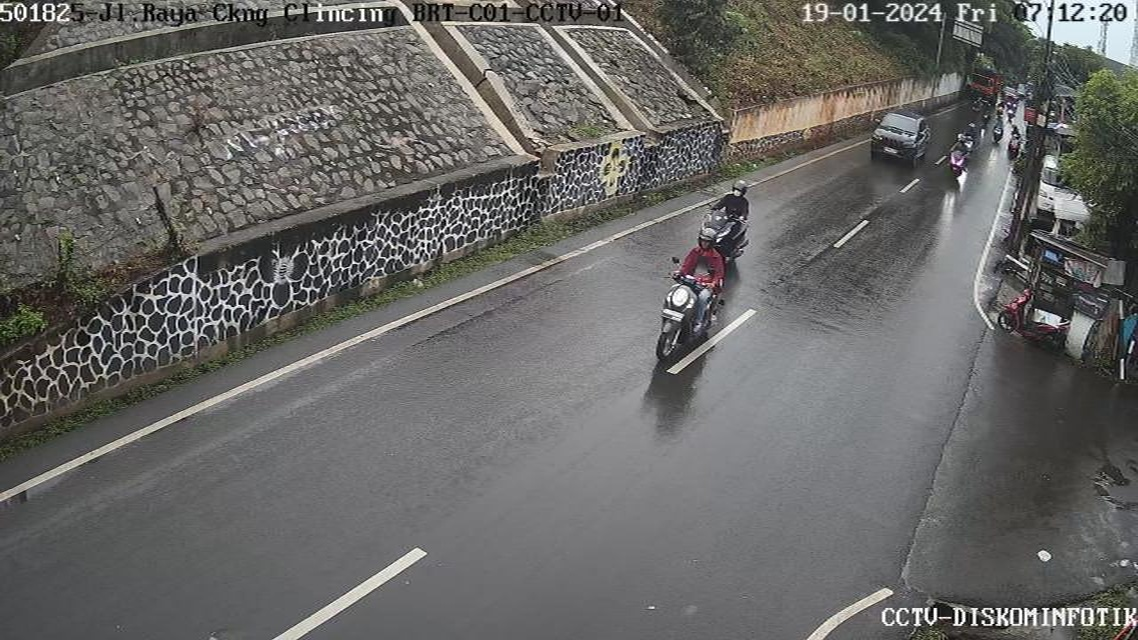Gerobak: (992, 256, 1084, 349)
